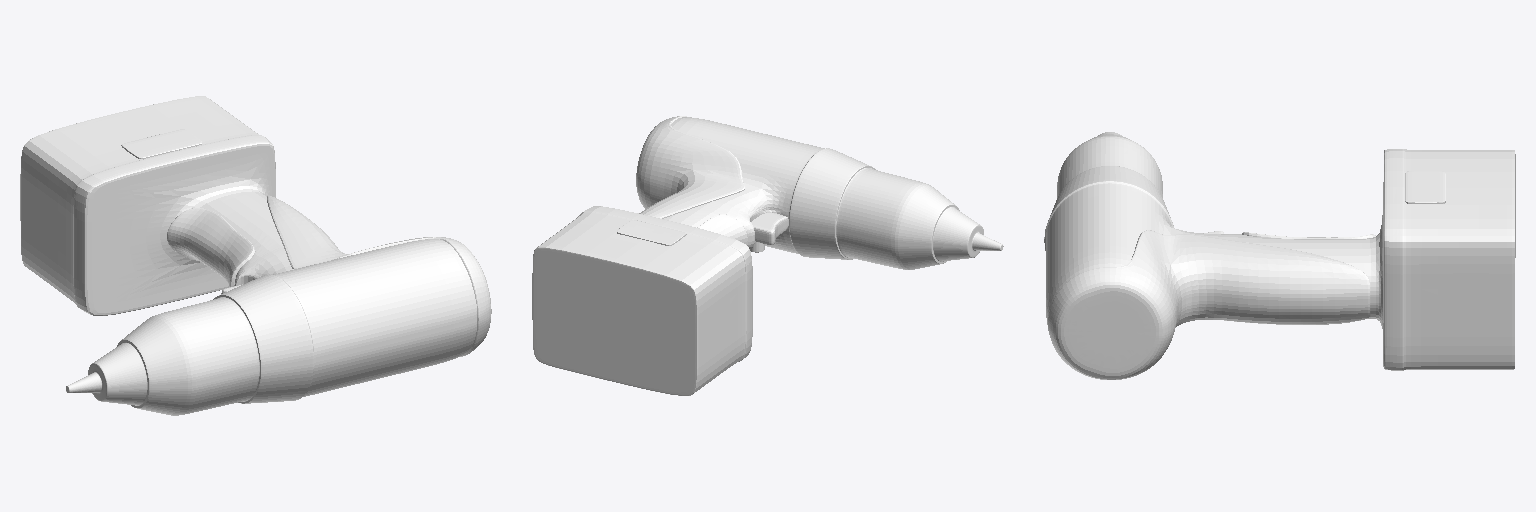
URDF robot description (apple):
<?xml version="1.0" encoding="utf-8"?>
<robot name="apple">
  <link name="base_link">
    <contact>
      <lateral_friction value="0.5"/>
      <rolling_friction value="0.0"/>
      <contact_cfm value="0.0"/>
      <contact_erp value="1.0"/>
    </contact>
    <inertial>
      <origin rpy="0 0 0" xyz="0 0 0"/>
      <mass value=".5"/>
      <inertia ixx="0" ixy="0" ixz="0" iyy="0" iyz="0" izz="0"/>
    </inertial>
    <visual>
      <origin rpy="1.57 0 0" xyz="0 0 0.1"/>
      <geometry>
        <mesh filename="models/meshes/drill/Drill.obj" scale="0.02 0.02 0.02"/>
      </geometry>
      <material name="hi">
        <color rgba="1 1 1 1"/>
      </material>
    </visual>
    <collision>
      <origin rpy="1.57 0 0" xyz="0 0 0.1"/>
      <geometry>
        <mesh filename="models/meshes/drill/Drill.obj" scale="0.02 0.02 0.02"/>
      </geometry>
    </collision>
  </link>
</robot>

--- Facts derived from the render (not from the file) ---
3 views of the same robot in one strip: view 1: azimuth 30°, elevation 25°; view 2: azimuth 150°, elevation 25°; view 3: azimuth 270°, elevation 25° (orthographic).
Model apple with 1 links and 0 joints (none), rooted at base_link, posed all joints at 0.
Links seen in each view (by area): view 1: base_link; view 2: base_link; view 3: base_link.
Link boxes in pixels (x1,y1,x2,y2): base_link: [20, 96, 491, 415]; base_link: [532, 116, 1003, 395]; base_link: [1044, 132, 1515, 379].
Size in the robot's own frame: 0.3415 by 0.3446 by 0.1172 metres.
1 mesh visuals loaded from 1 distinct referenced files (1 OBJ).